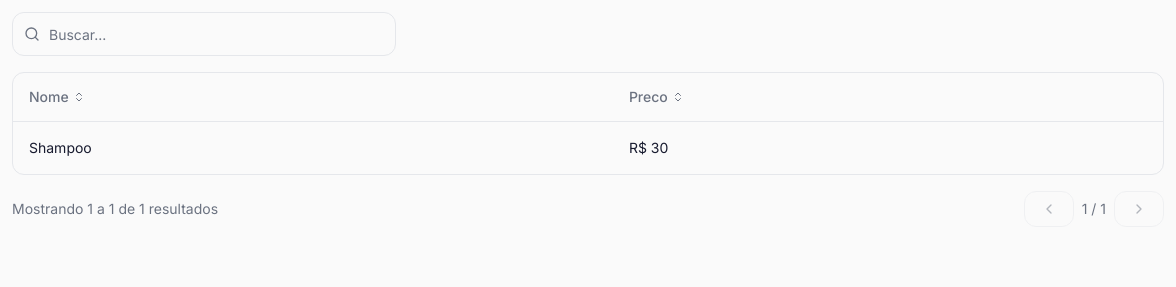
Test case: DataTable › Search › should show empty state when search matches nothing
Type "xyz" into the field with placeholder "Buscar..." at (204, 34), box top-left (12, 12), bottom-right (396, 56)
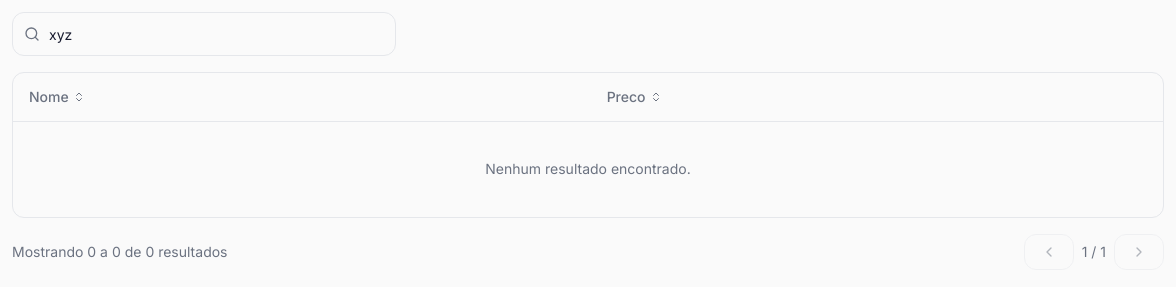
Result: the text "Nenhum resultado encontrado." is shown at top-left (13, 121), bottom-right (1163, 217)
